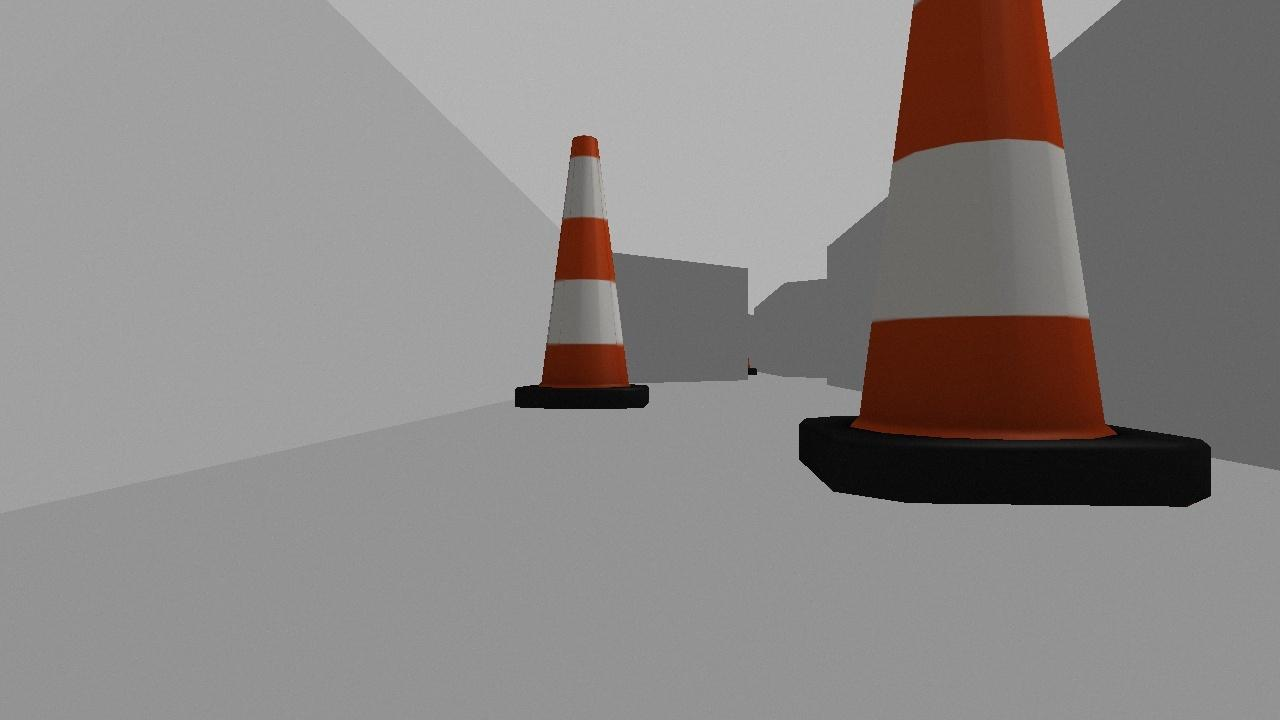cone_barrel: (796, 0, 1209, 506), (513, 134, 647, 409)
